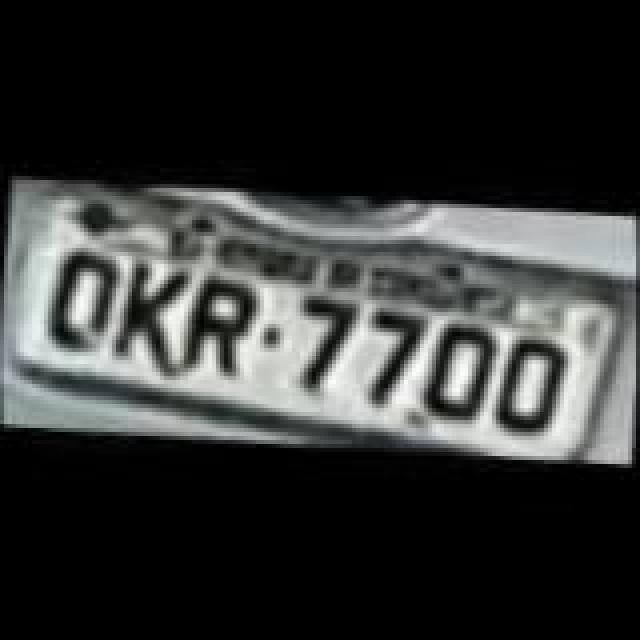7: (284, 286, 360, 398), (354, 304, 430, 416)
K: (104, 256, 196, 380)
O: (34, 242, 122, 366), (412, 312, 500, 428), (484, 324, 572, 436)
R: (168, 264, 260, 380)
